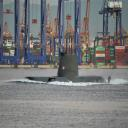submarine: (25, 52, 112, 85)
